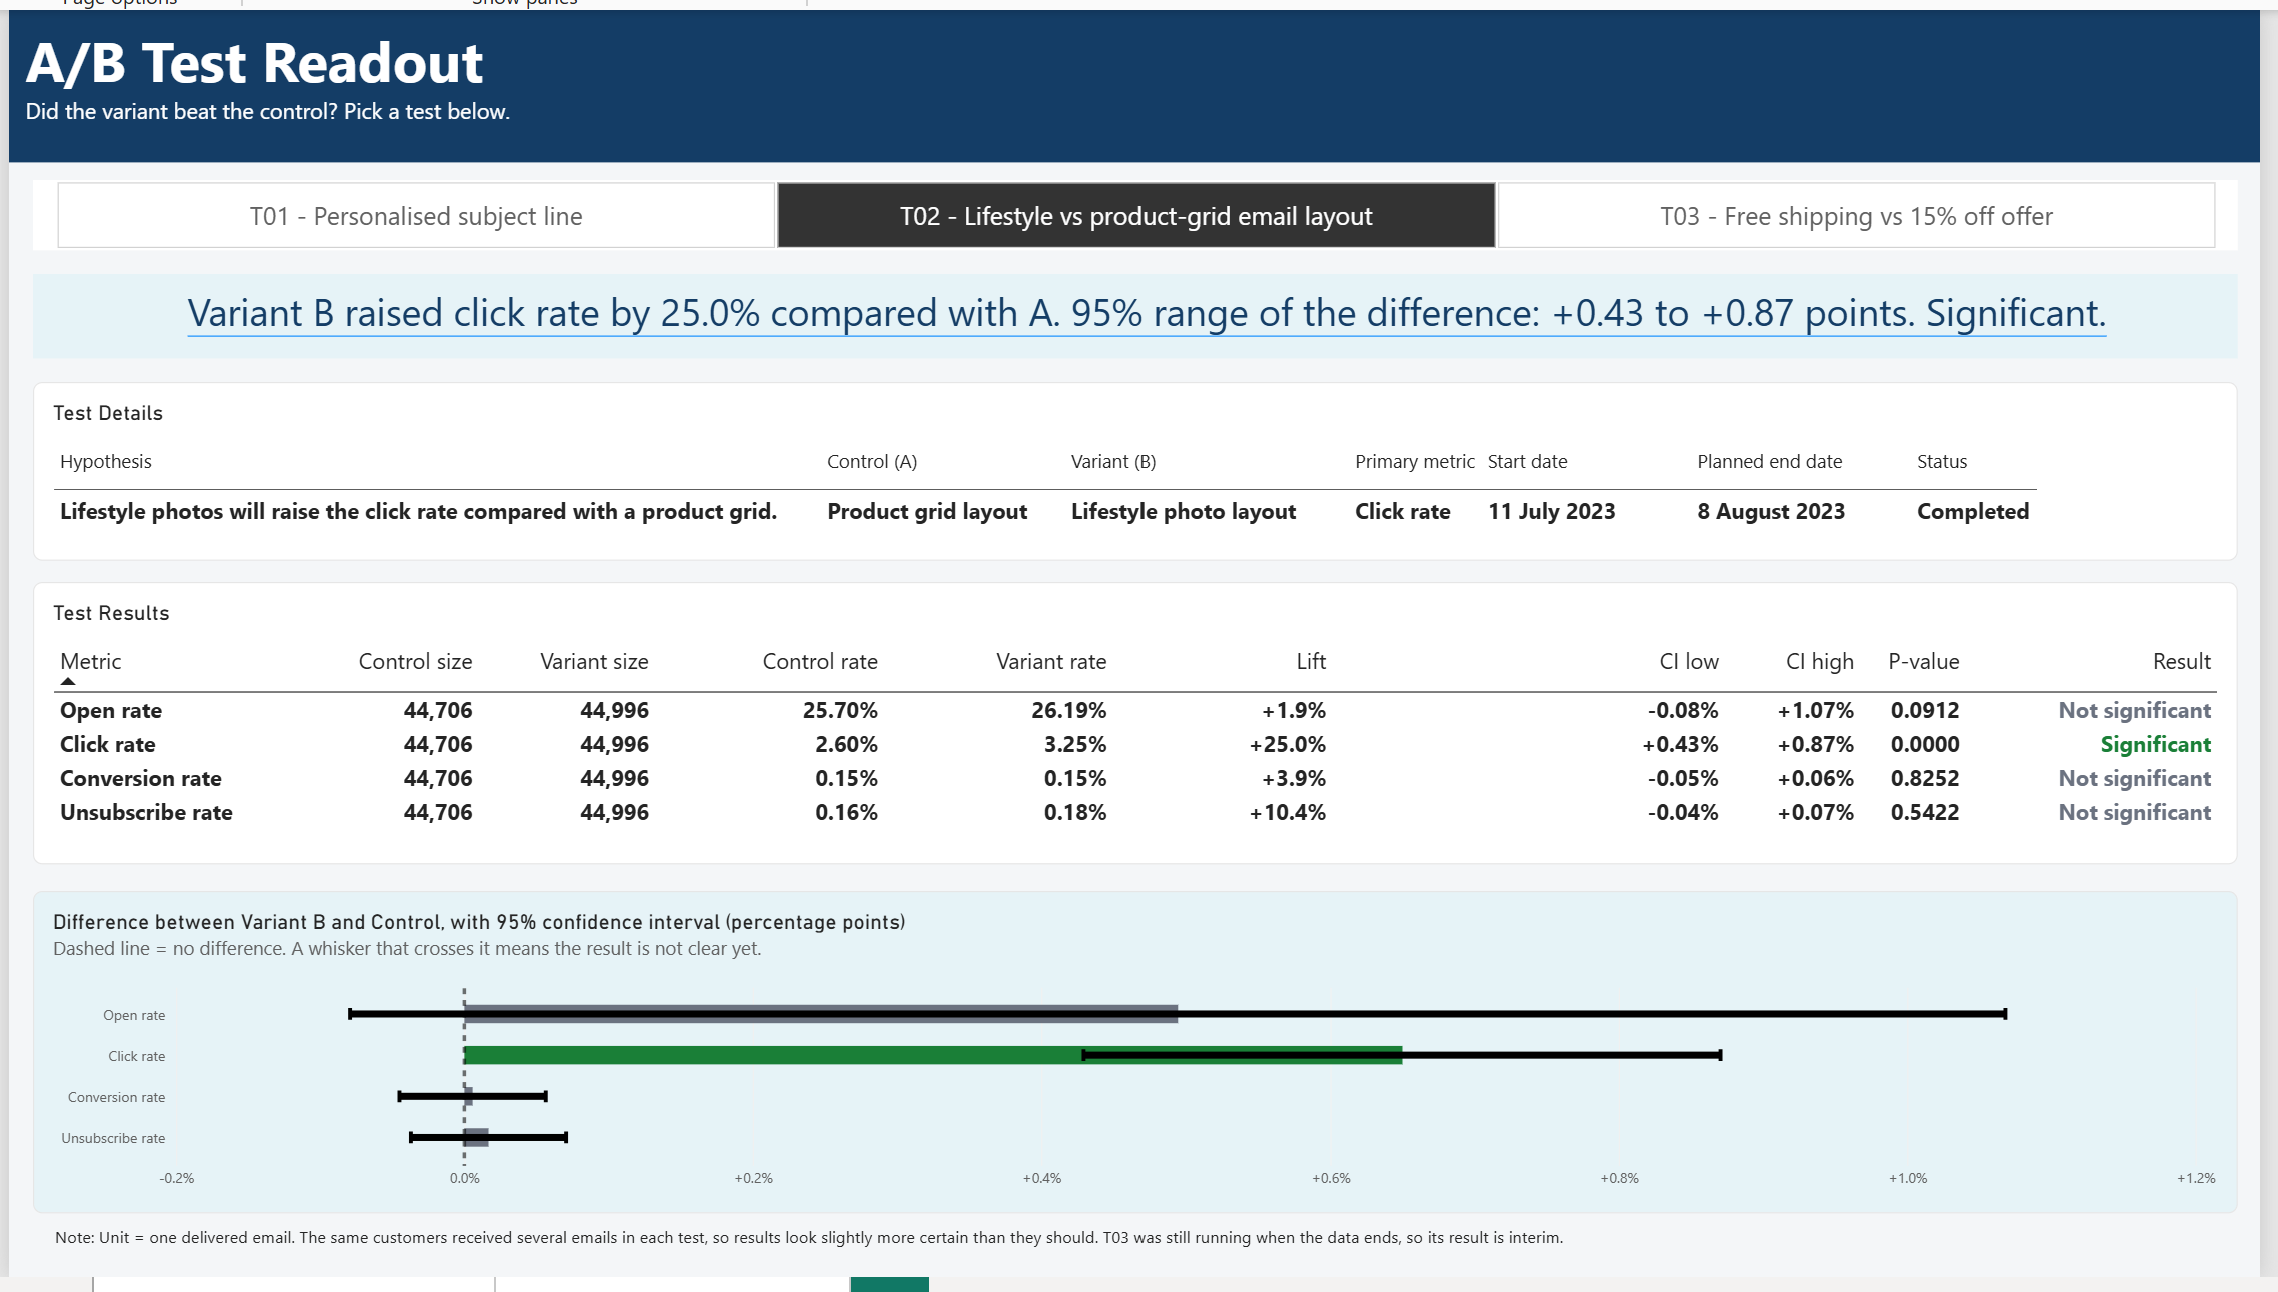

The dashboard page shown, as its layout file describes it:
{"tool":"powerbi","page":{"name":"Page 2: A/B Test Readout ","canvas":[1920,1080],"ordinal":1},"visuals":[{"type":"textbox","box":[0,0,1920,130],"z":0},{"type":"slicer","fields":{"Values":["ab_tests.test_label"]},"box":[20,145,1880,60],"z":1000},{"type":"textbox","box":[20,225,1880,72],"z":2000},{"type":"tableEx","title":"Test Details","fields":{"Values":["ab_tests.hypothesis","ab_tests.variant_a","ab_tests.variant_b","ab_tests.primary_metric_key","ab_tests.start_date","ab_tests.planned_end_date","ab_tests.status"]},"box":[20,317.5,1880,152.5],"z":3000},{"type":"tableEx","title":"Test Results","fields":{"Values":["AB Metric.Metric","_Measures.n A","_Measures.n B","_Measures.Rate A","_Measures.Rate B","_Measures.Lift %","_Measures.CI Low","_Measures.CI High","_Measures.P Value","_Measures.Result"]},"box":[20,487.5,1880,240],"z":4000},{"type":"clusteredBarChart","title":"Difference between Variant B and Control, with 95% confidence interval (percentage points)","fields":{"Category":["AB Metric.Metric"],"Y":["_Measures.Difference"]},"box":[20,750,1880,275],"z":5000},{"type":"textbox","box":[40,1036,1880,20],"z":5001}]}

Visuals, with their boxes on the page's 1920x1080 design canvas (x1, y1, x2, y2). These are canvas units, not pixel positions in the 2278x1292 screenshot, which may show the page scaled, cropped or inside an application window:
textbox: [x1=0, y1=0, x2=1920, y2=130]
slicer - ab_tests.test_label: [x1=20, y1=145, x2=1900, y2=205]
textbox: [x1=20, y1=225, x2=1900, y2=297]
"Test Details" tableEx: [x1=20, y1=318, x2=1900, y2=470]
"Test Results" tableEx: [x1=20, y1=488, x2=1900, y2=728]
"Difference between Variant B and Control, with 95% confidence interval (percentage points)" clusteredBarChart: [x1=20, y1=750, x2=1900, y2=1025]
textbox: [x1=40, y1=1036, x2=1920, y2=1056]
